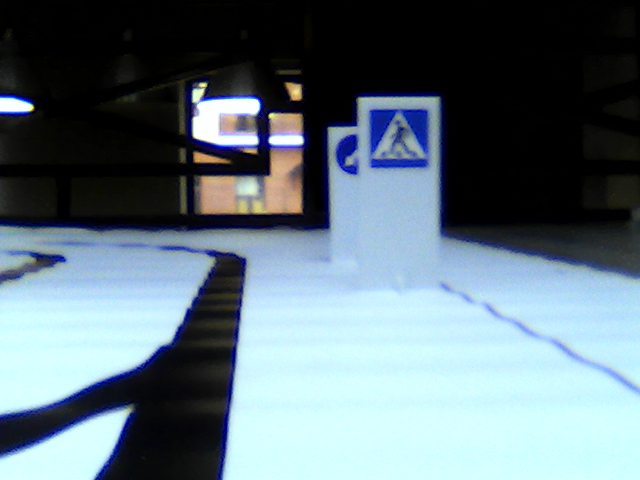pesh: (368, 109, 426, 168)
